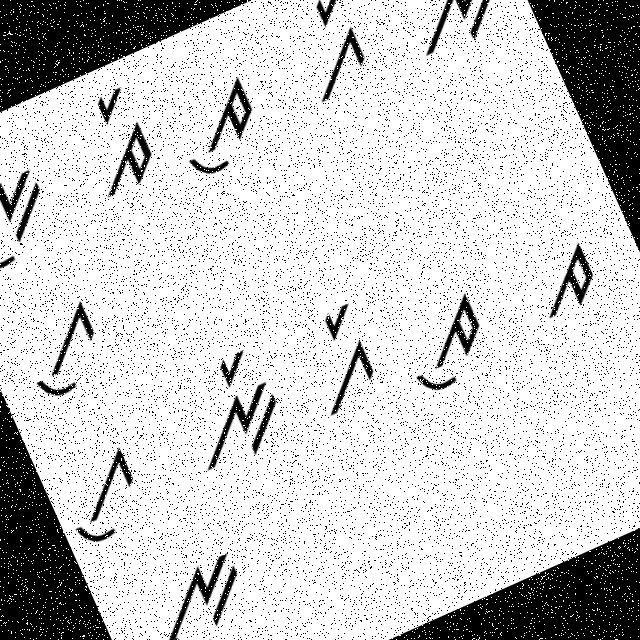gar: (282, 289, 399, 424), (268, 0, 391, 119)
gaw: (44, 436, 170, 558), (1, 292, 125, 414)
nga: (388, 0, 519, 71)
ngar: (166, 338, 296, 479)
ngaw: (134, 537, 268, 639), (0, 150, 74, 287)
ta: (516, 227, 614, 338)
tar: (64, 82, 169, 204)
taw: (391, 282, 512, 407), (159, 67, 277, 186)
